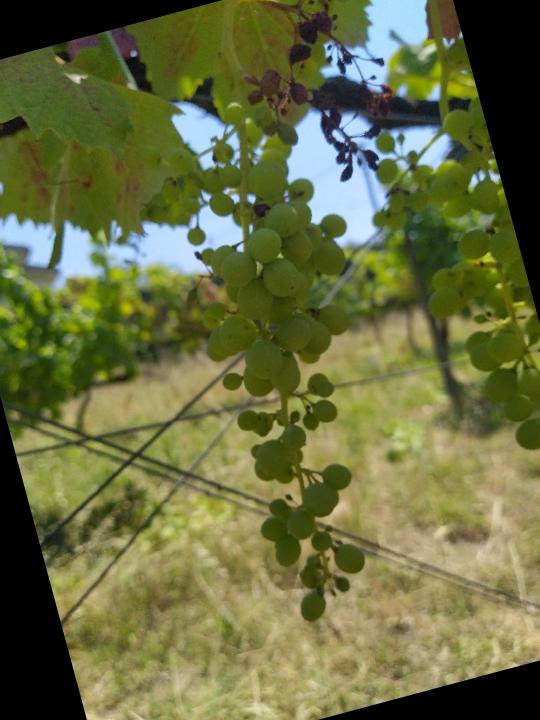grape: (134, 73, 453, 636), (222, 0, 425, 213)
